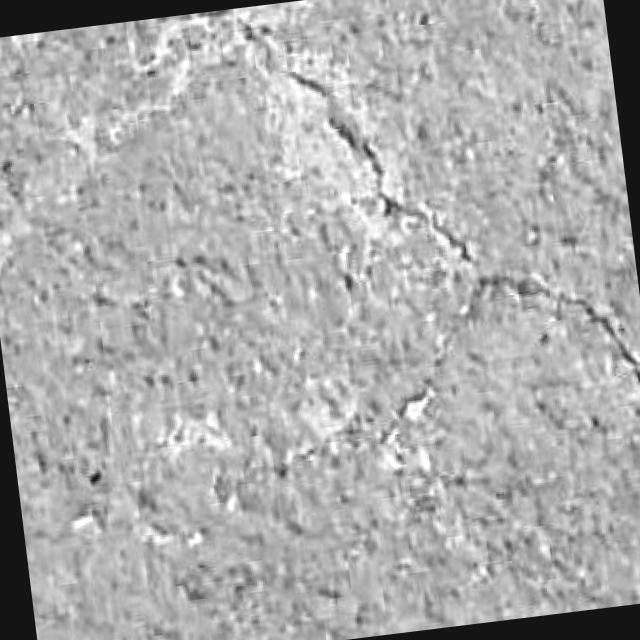crack: (283, 69, 639, 382), (285, 70, 474, 267), (474, 273, 639, 380)
